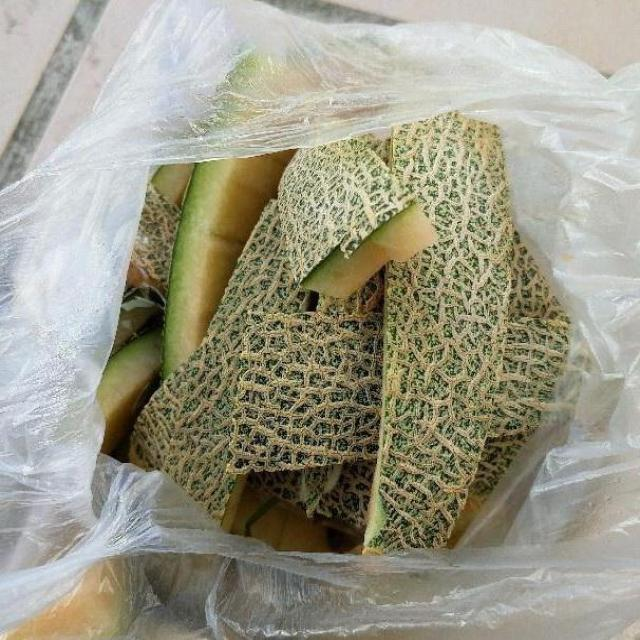Wet: (93, 110, 572, 558)
